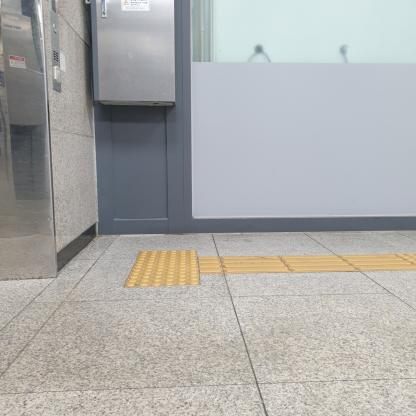go: (278, 255, 360, 272), (337, 254, 416, 271), (219, 255, 292, 273)
stop: (124, 264, 200, 288), (134, 250, 198, 265)
